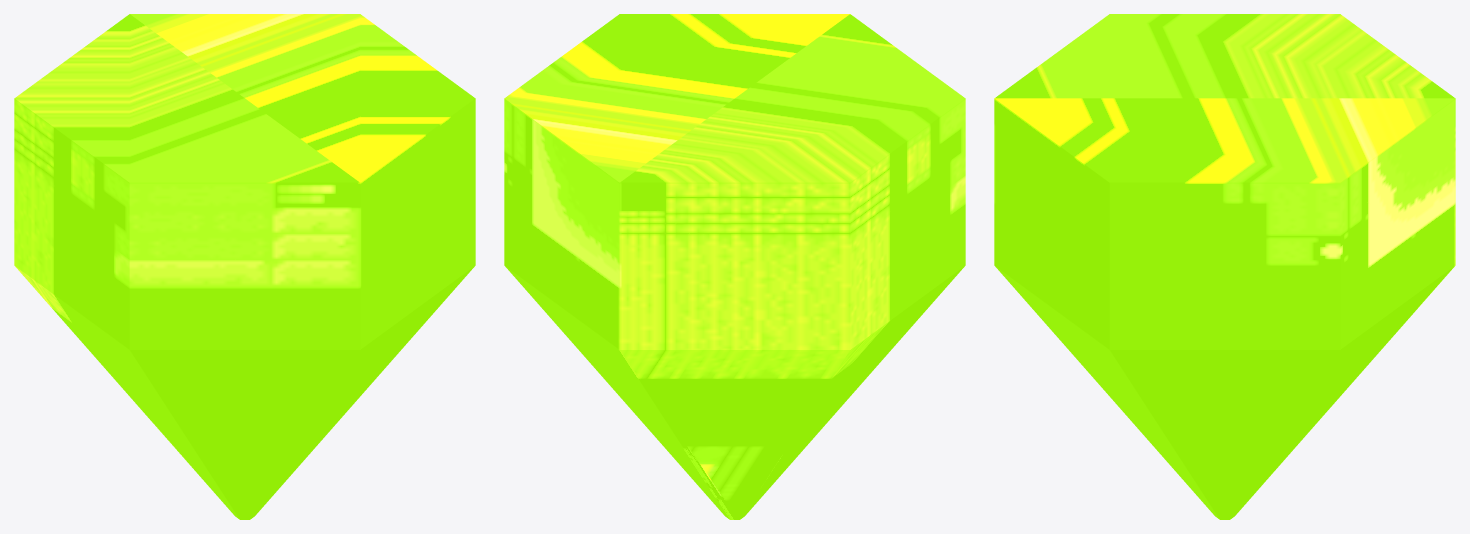
File: Floating_Platform_Crystal.glb
3 views of the same model, side by side, from view 1: azimuth 30°, elevation 25°; view 2: azimuth 150°, elevation 25°; view 3: azimuth 270°, elevation 25° (orthographic).
Parts seen in each view (by area): view 1: Floating_Platform_Crystal; view 2: Floating_Platform_Crystal; view 3: Floating_Platform_Crystal.
Boxes of the visible parts, x1,y1,x2,y2 form: Floating_Platform_Crystal: (14, 14, 475, 519); Floating_Platform_Crystal: (504, 14, 965, 519); Floating_Platform_Crystal: (994, 14, 1455, 519).
Size of the model in its own units: 1.73 by 2 by 2.
Materials: 1 (1 with a texture image).
